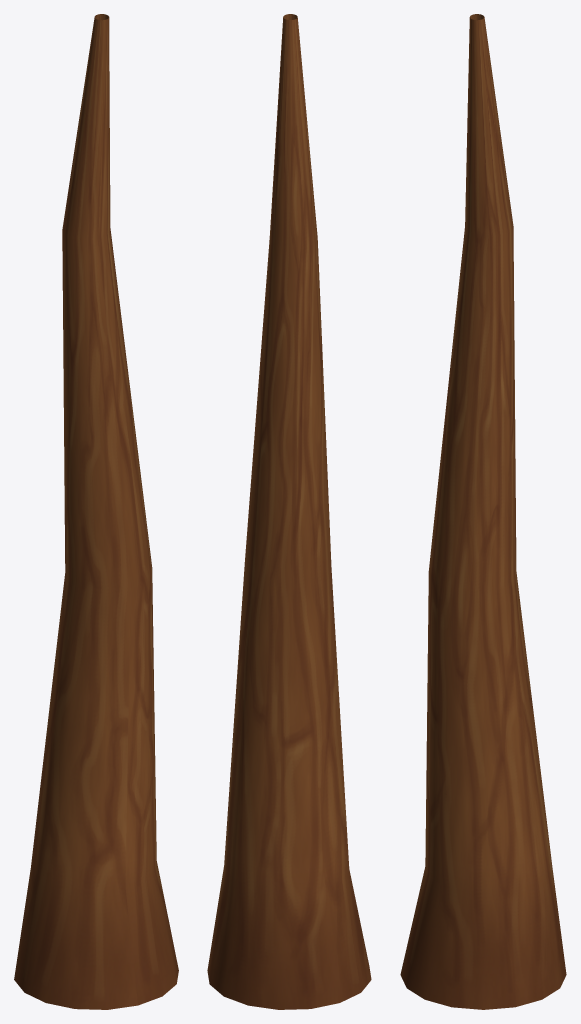
The model's file is Pine - Wood #4.fbx.
The picture shows the model from 3 angles, left to right: view 1: azimuth 30°, elevation 25°; view 2: azimuth 150°, elevation 25°; view 3: azimuth 270°, elevation 25°; orthographic projection.
Visible parts, largest first — view 1: Pine - Wood #4; view 2: Pine - Wood #4; view 3: Pine - Wood #4.
Boxes of the visible parts, <box> form: Pine - Wood #4: <box>14,14,178,1009</box>; Pine - Wood #4: <box>207,14,371,1009</box>; Pine - Wood #4: <box>400,14,566,1009</box>.
Bounding box in the file's own units: 63.88 × 407 × 63.88.
Materials: 1 (1 with a texture image).
